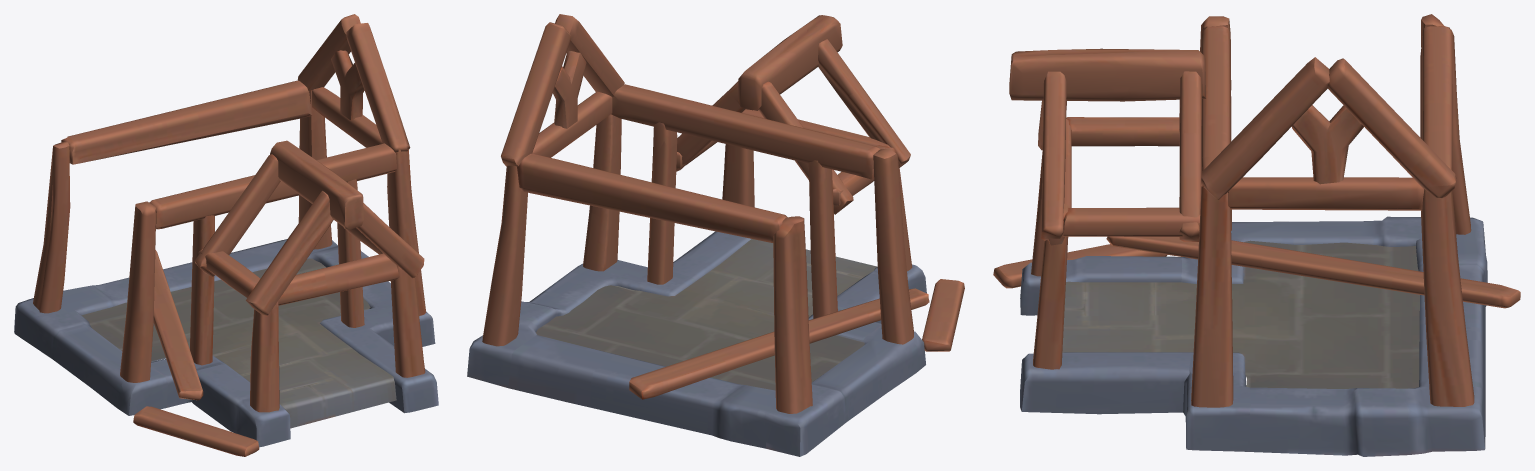
Rendered from SM_House_02.glb.
3 views of the same model, side by side, from view 1: azimuth 30°, elevation 25°; view 2: azimuth 150°, elevation 25°; view 3: azimuth 270°, elevation 25° (orthographic). The views are drawn at different scales.
Visible parts, largest first — view 1: SM_House_02; view 2: SM_House_02; view 3: SM_House_02.
Part boxes in pixels (bbox=[...]): SM_House_02: bbox=[14, 14, 438, 456]; SM_House_02: bbox=[467, 14, 964, 456]; SM_House_02: bbox=[993, 14, 1520, 456].
Bounding box in the file's own units: 3.79 × 3.27 × 4.14.
1 material, 1 textured.
